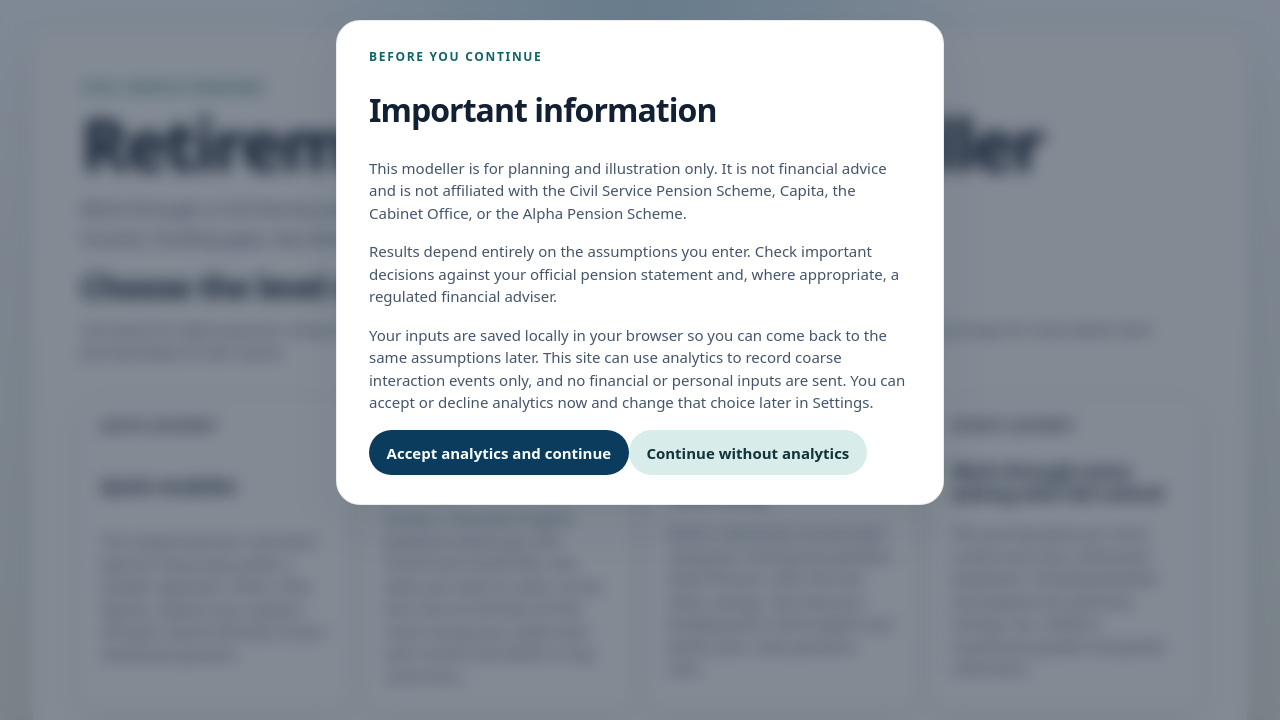
Test: App settings form › keeps working when local storage is unavailable
The width and height of the screenshot is (1280, 720).
Click the button "Accept analytics and continue": coordinates (499, 453) [369, 430, 629, 475]
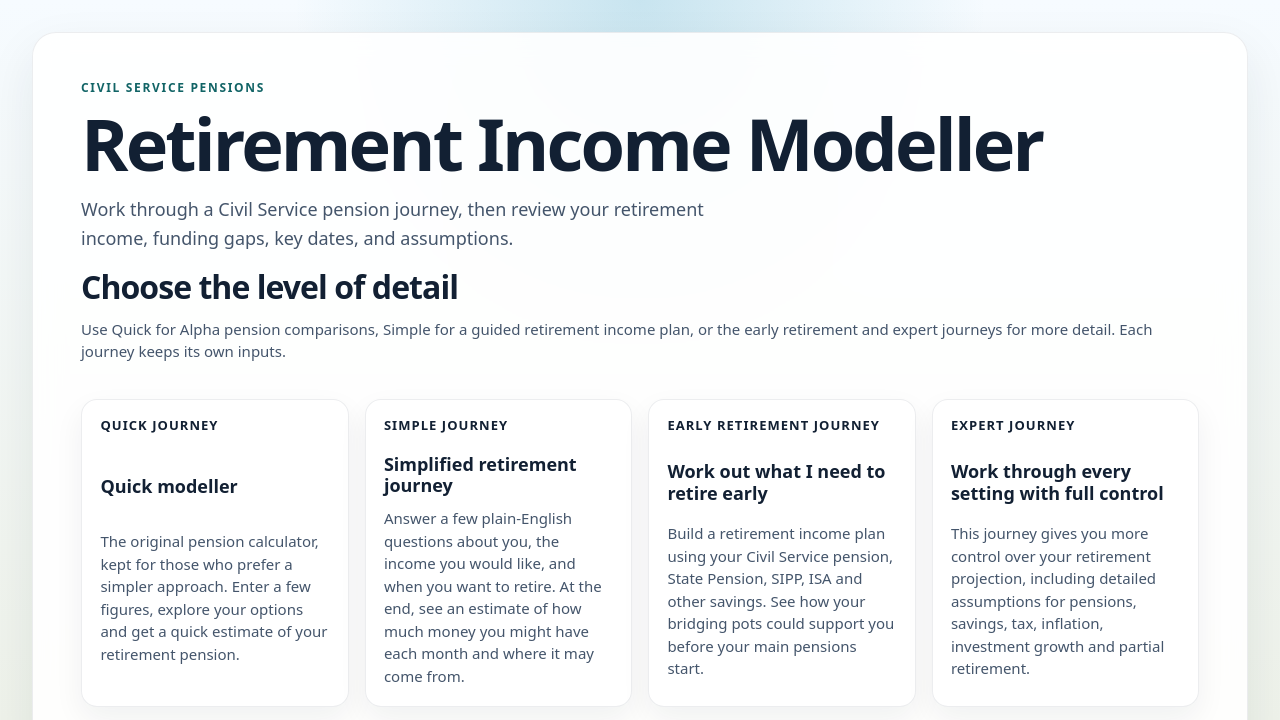
Click the button "Work through every setting with full control": coordinates (1065, 553) [932, 399, 1199, 707]
(page scrolled)
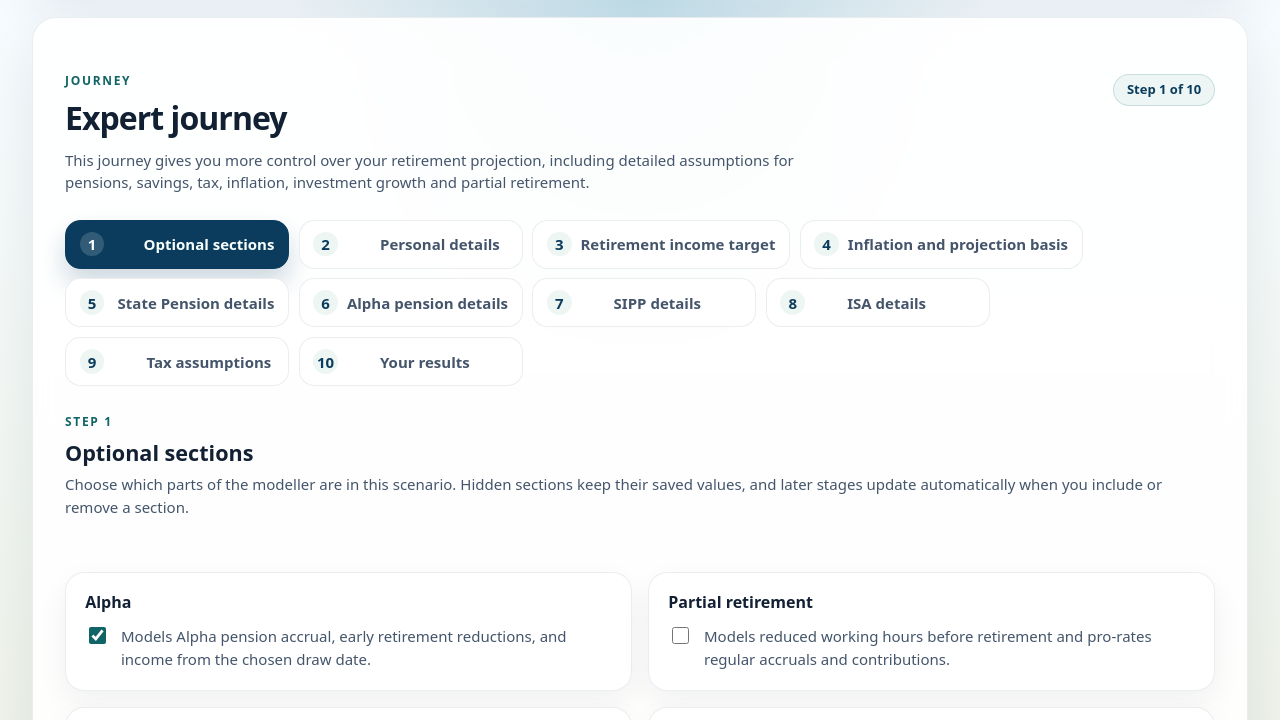
Result: the heading "Optional sections" is shown at [65, 438, 254, 467]
